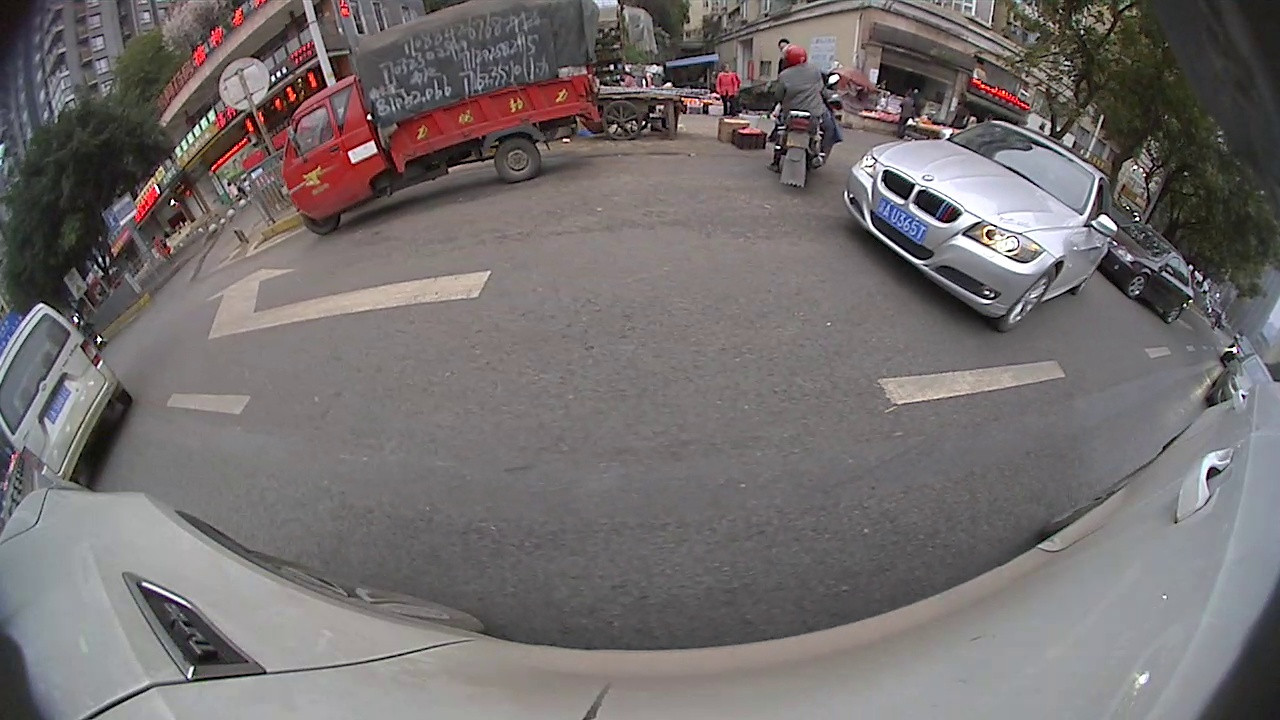car: (836, 115, 1123, 337), (2, 303, 140, 494), (2, 296, 136, 487), (1096, 215, 1196, 328), (1204, 353, 1275, 428)
front: (1002, 270, 1053, 335), (1128, 271, 1146, 302)
rear: (495, 136, 539, 181), (1164, 299, 1187, 325)
rider: (279, 1, 605, 240), (761, 39, 842, 193)
